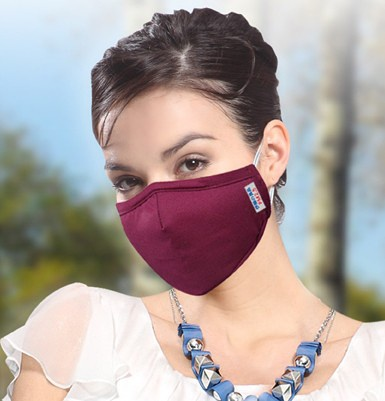face_mask: (99, 96, 273, 296)
